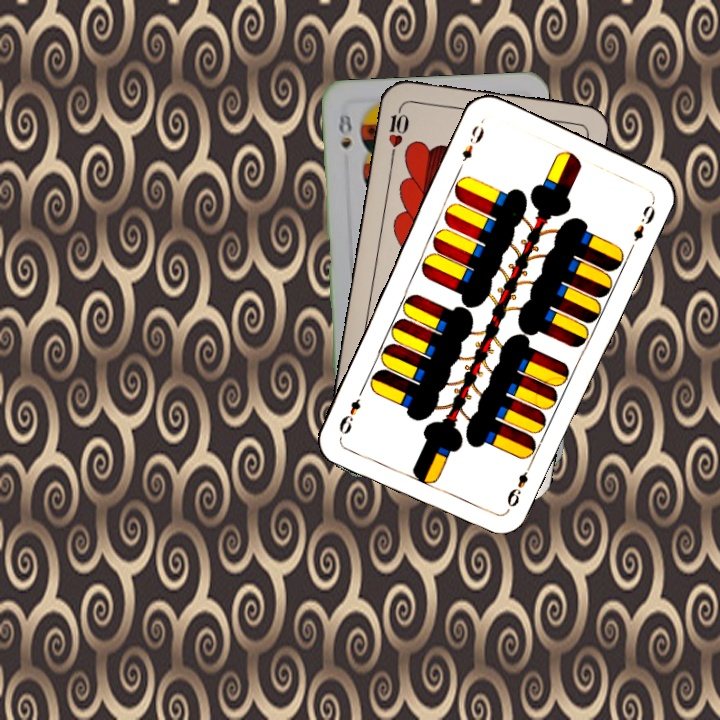E9: (502, 459, 535, 515), (458, 121, 487, 164)
H10: (384, 101, 412, 160)
S8: (335, 108, 355, 152)
